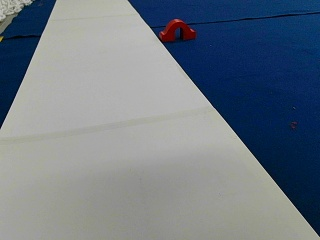bridge: (160, 19, 196, 40)
